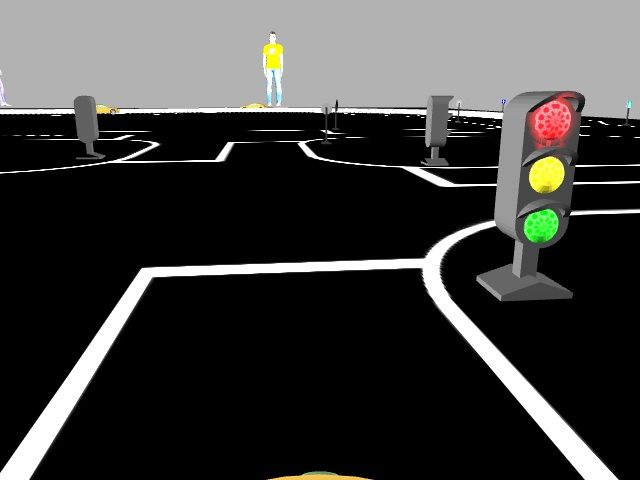TrafficLight: (495, 85, 585, 242)
